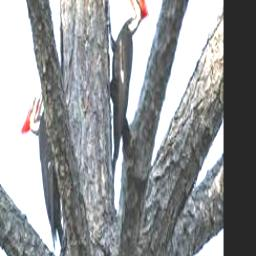Woodpecker: (20, 77, 63, 249), (106, 0, 148, 175)
